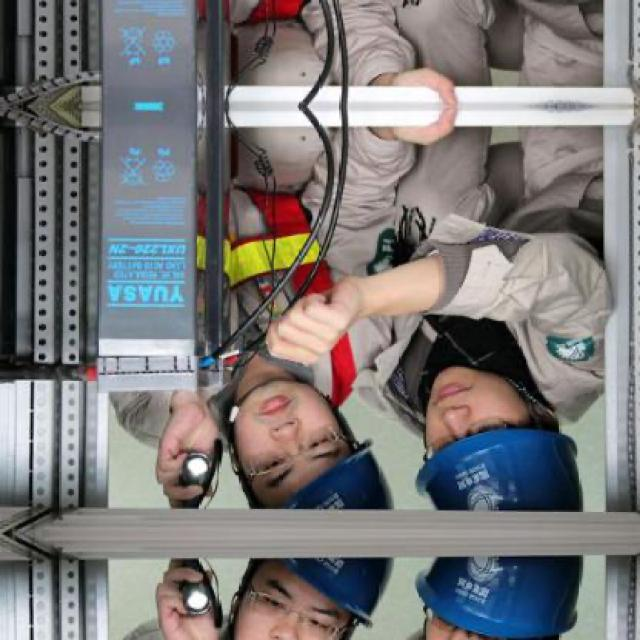con casco: (407, 396, 599, 532), (206, 412, 391, 539)
